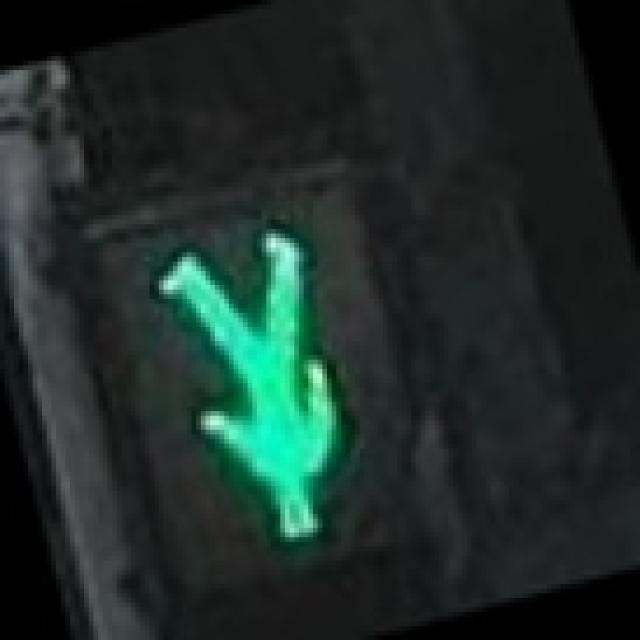green_light: (84, 65, 547, 570)
